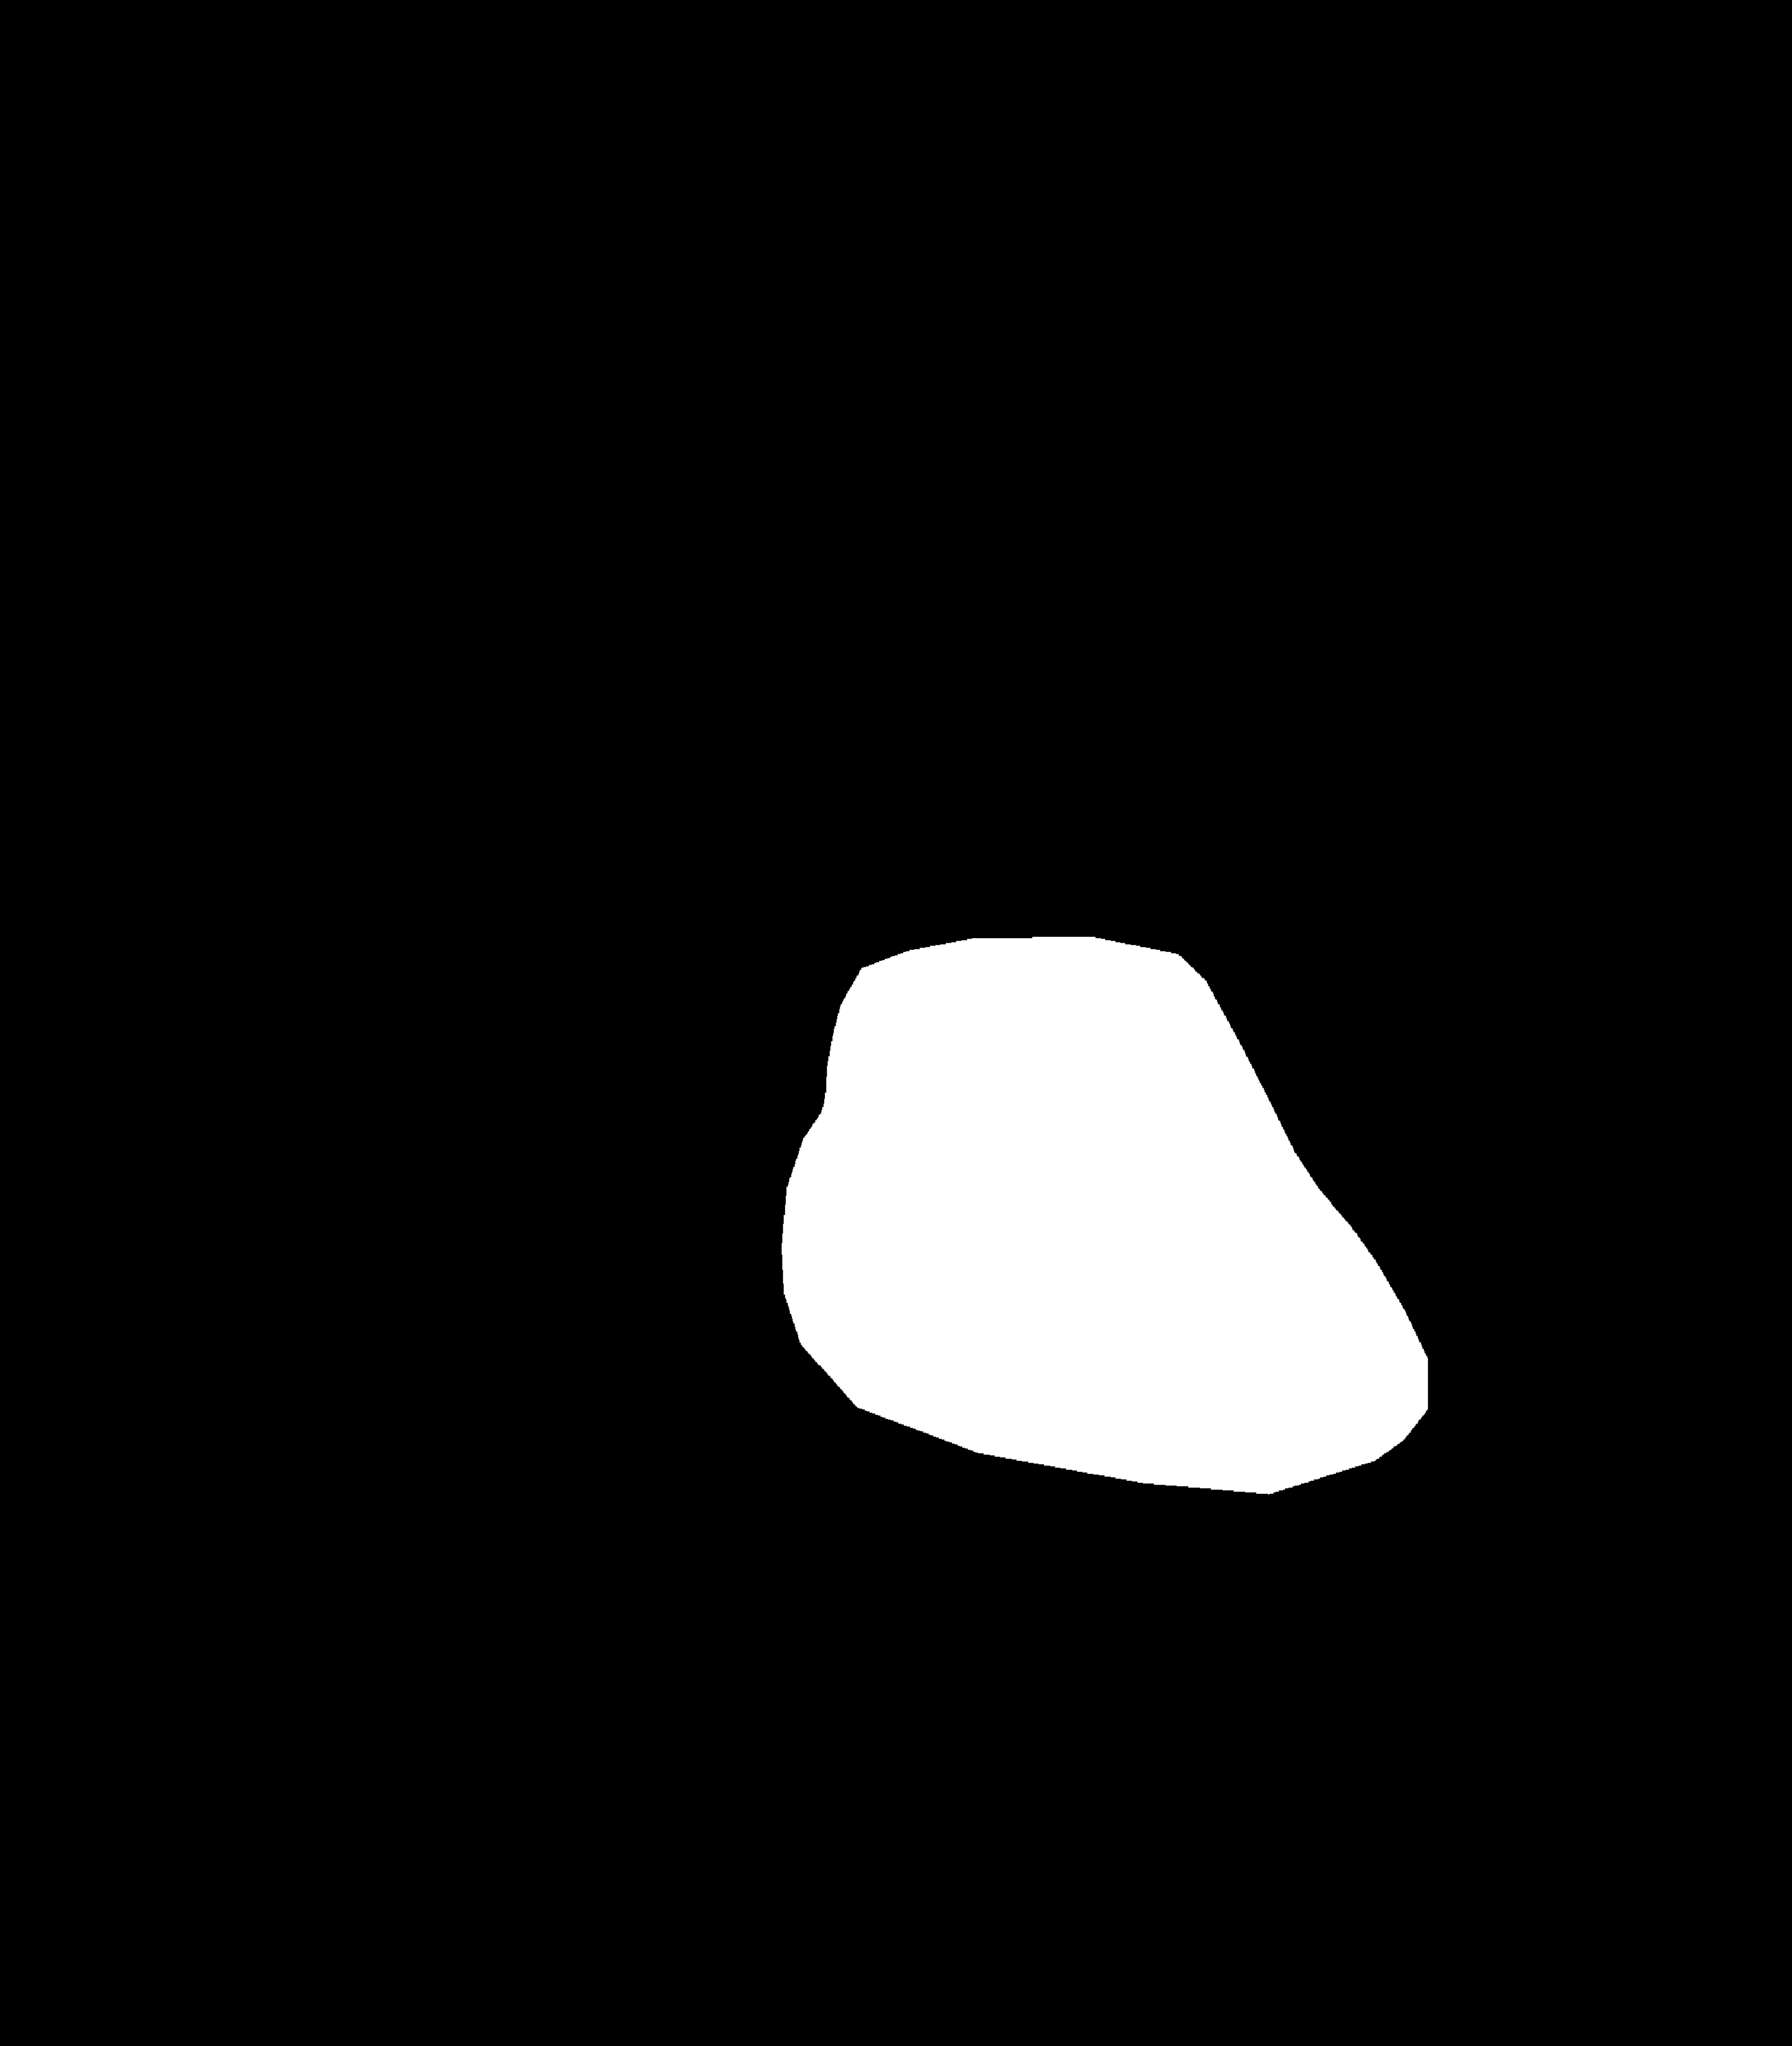heart: (781, 1063, 1454, 1514)
left_lung: (327, 299, 901, 1571)
right_lung: (1040, 275, 1587, 1559)
